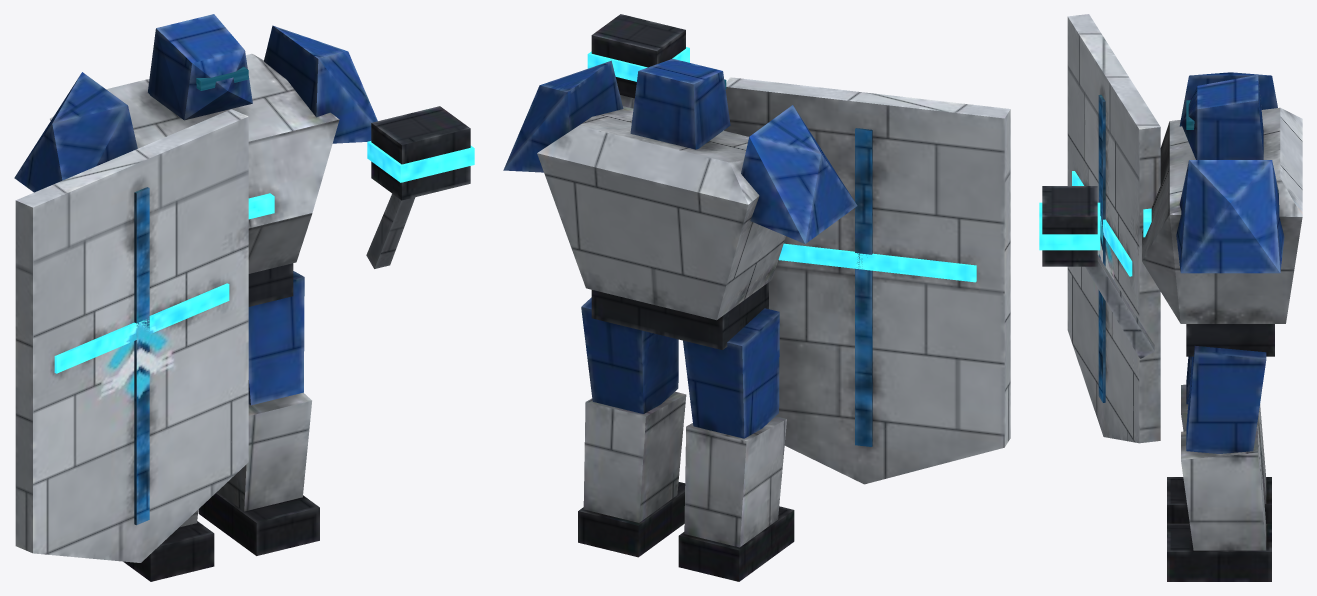
File: u_sentinel1_w.glb
3 views of the same model, side by side, from view 1: azimuth 30°, elevation 25°; view 2: azimuth 150°, elevation 25°; view 3: azimuth 270°, elevation 25° (orthographic). The views are drawn at different scales.
Parts seen in each view (by area): view 1: u_sentinel1_w; view 2: u_sentinel1_w; view 3: u_sentinel1_w.
Boxes of the visible parts, x1,y1,x2,y2 form: u_sentinel1_w: (14,14,474,581); u_sentinel1_w: (503,14,1010,581); u_sentinel1_w: (1039,14,1302,581).
Size of the model in its own units: 1.83 by 2.04 by 1.06.
1 material, 1 textured.
